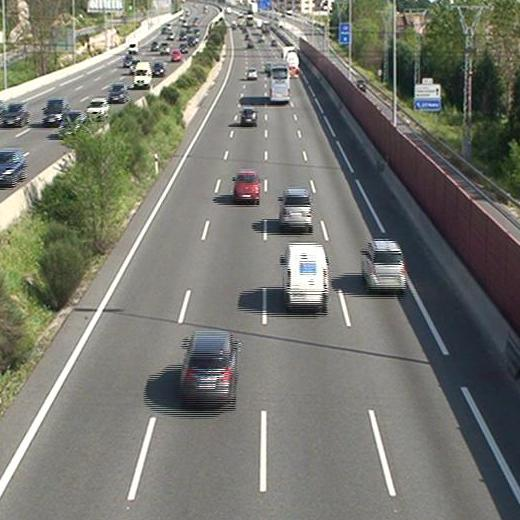bus: (266, 62, 290, 103)
car: (179, 333, 236, 406), (362, 240, 405, 292), (279, 189, 313, 230), (234, 171, 259, 203), (240, 107, 257, 124), (246, 68, 257, 79)
tank-truck: (282, 45, 299, 78)
van: (284, 242, 329, 311)
